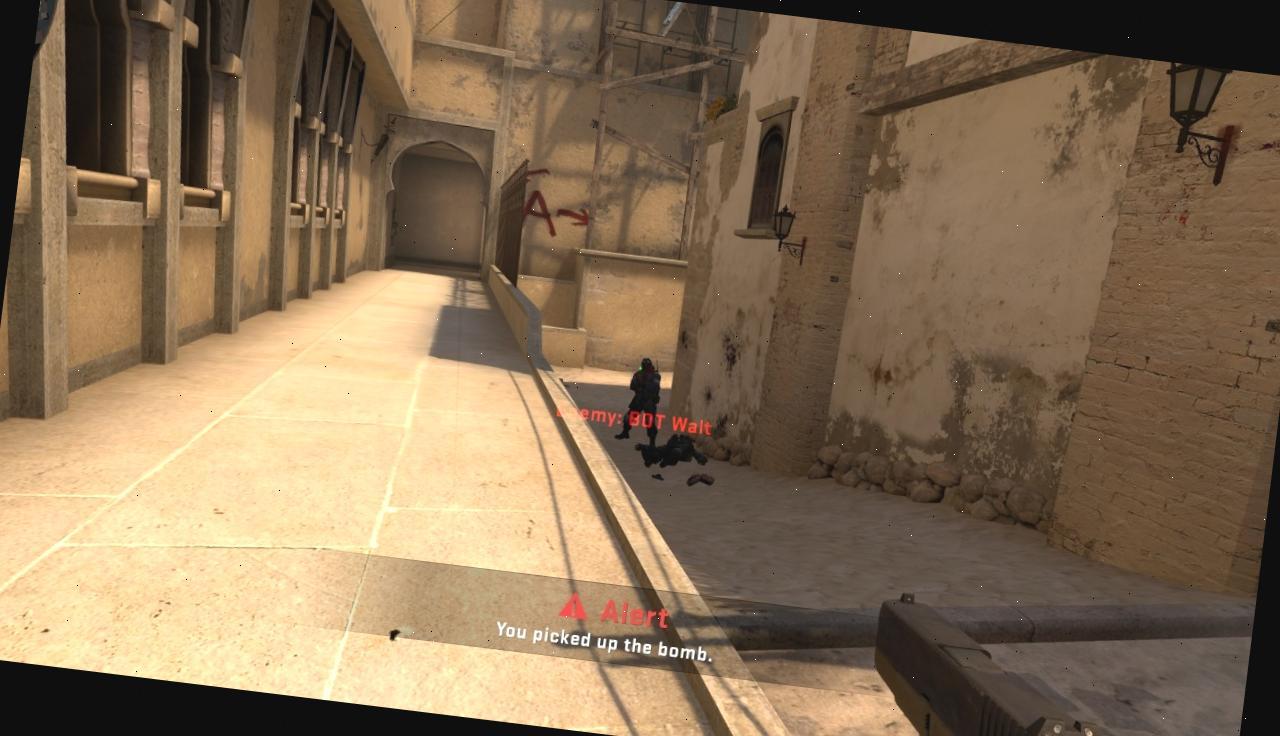ct: (614, 356, 666, 447)
cthead: (640, 357, 655, 371)
pistol: (861, 590, 1192, 736)
